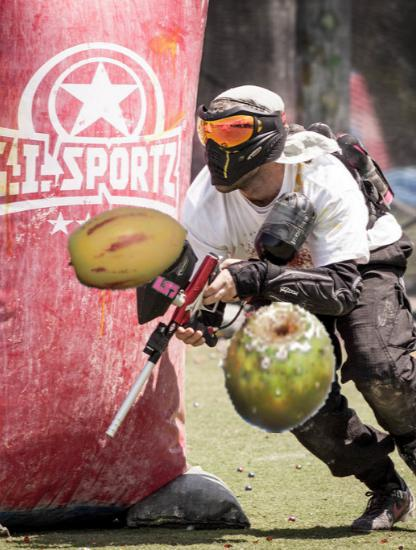Cactus: (211, 302, 343, 434)
Pepino: (66, 186, 191, 311)
